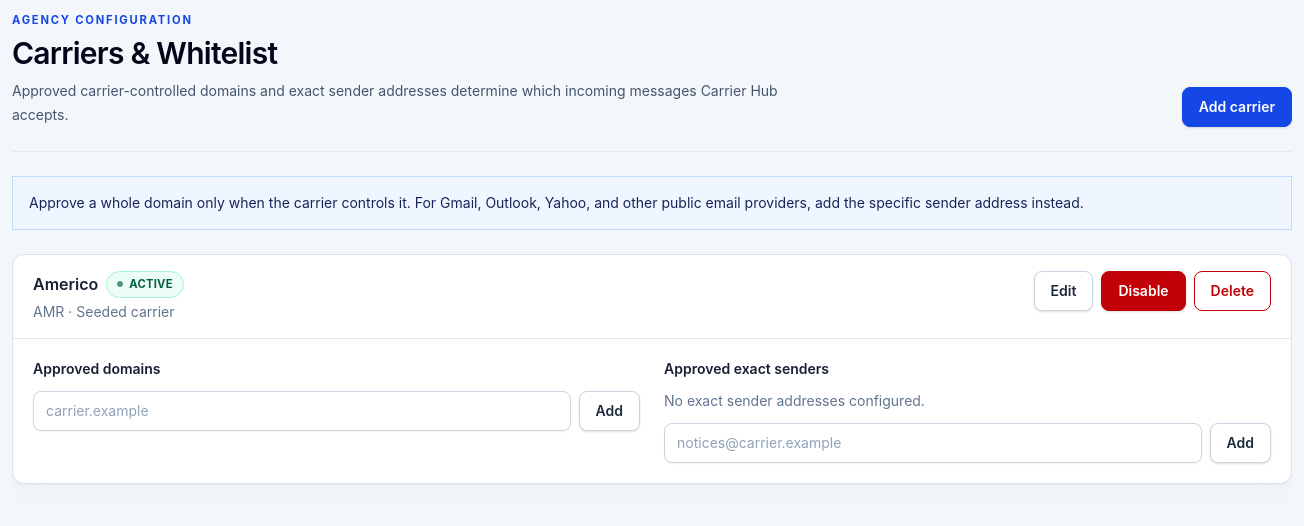
Test: CarriersPage mutation errors › shows a safe carrier update error instead of failing silently
The image size is (1304, 526).
Step 1. Click the button "Disable" → (1144,291), box [1101,271,1186,311]
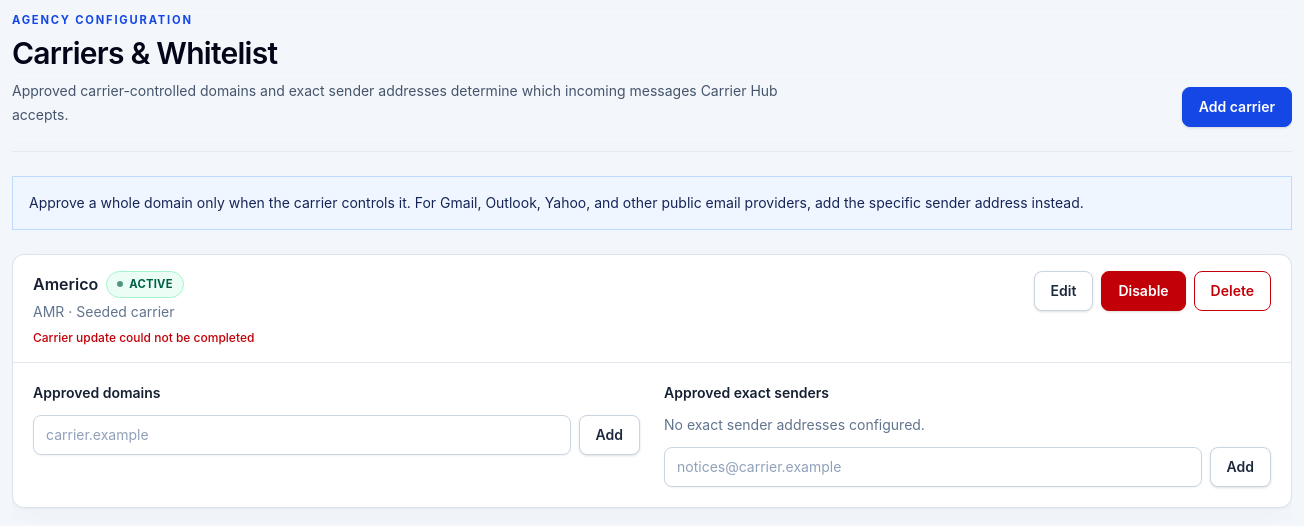
Expected: the message reads "Carrier update could not be completed", [33,330,254,345]
